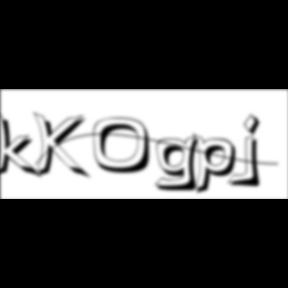K: (34, 110, 92, 182)
O: (94, 117, 158, 176)
g: (155, 134, 207, 194)
j: (240, 113, 268, 191)
k: (0, 108, 44, 181)
p: (193, 132, 243, 198)
